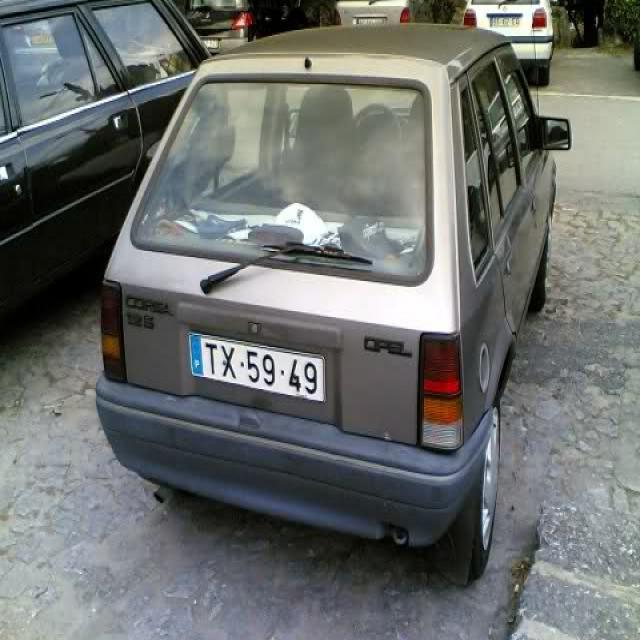portuguese-license-plates: (189, 331, 328, 404)
